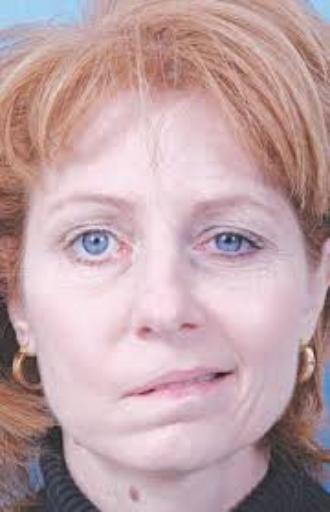left_eye: (191, 232, 270, 264)
left_lip_corner: (222, 360, 241, 385)
right_eye: (59, 228, 131, 269)
right_lip_corner: (118, 381, 149, 402)
